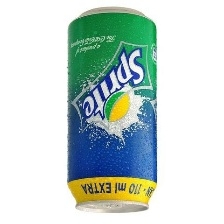can: (64, 3, 163, 215)
